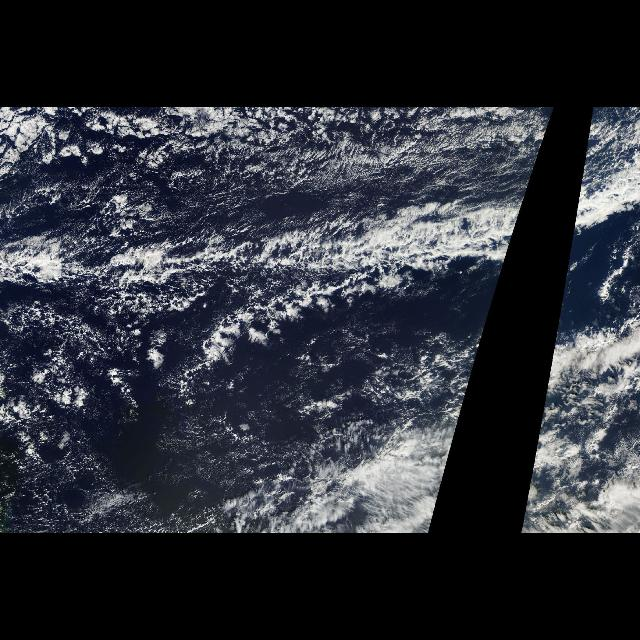Fish: (39, 175, 533, 392), (549, 194, 579, 368)
